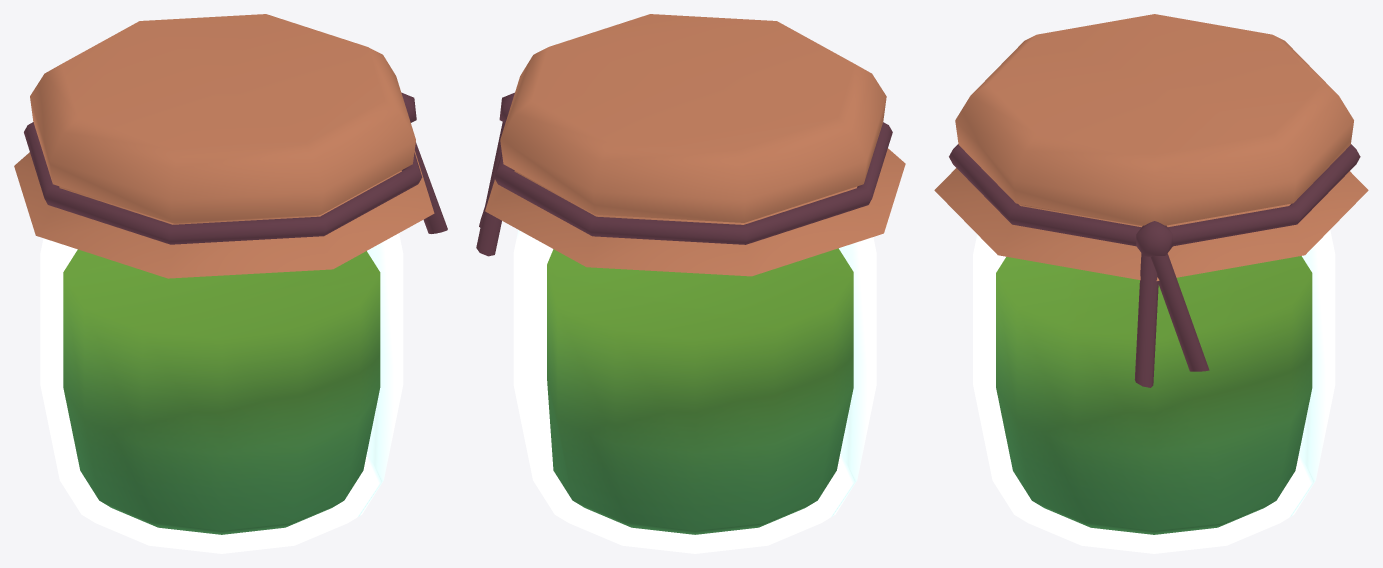
Rendered from Potion_015.glb.
3 views of the same model, side by side, from view 1: azimuth 30°, elevation 25°; view 2: azimuth 150°, elevation 25°; view 3: azimuth 270°, elevation 25° (orthographic).
Visible parts, largest first — view 1: Sphere.015; view 2: Sphere.015; view 3: Sphere.015.
Boxes of the visible parts, x1,y1,x2,y2 form: Sphere.015: (14, 14, 447, 553); Sphere.015: (476, 14, 905, 553); Sphere.015: (934, 14, 1368, 553).
Bounding box in the file's own units: 2.28 × 2.19 × 2.1.
3 materials, 3 textured.
